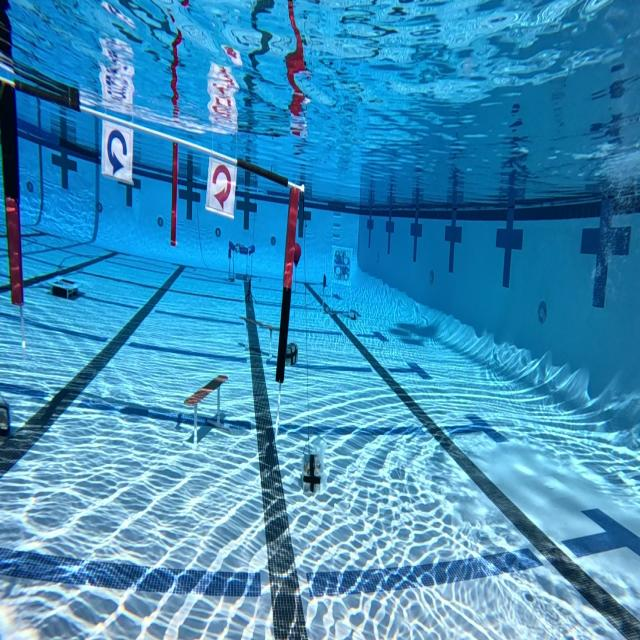blue_side: (98, 110, 135, 184)
red_side: (206, 147, 237, 216)
